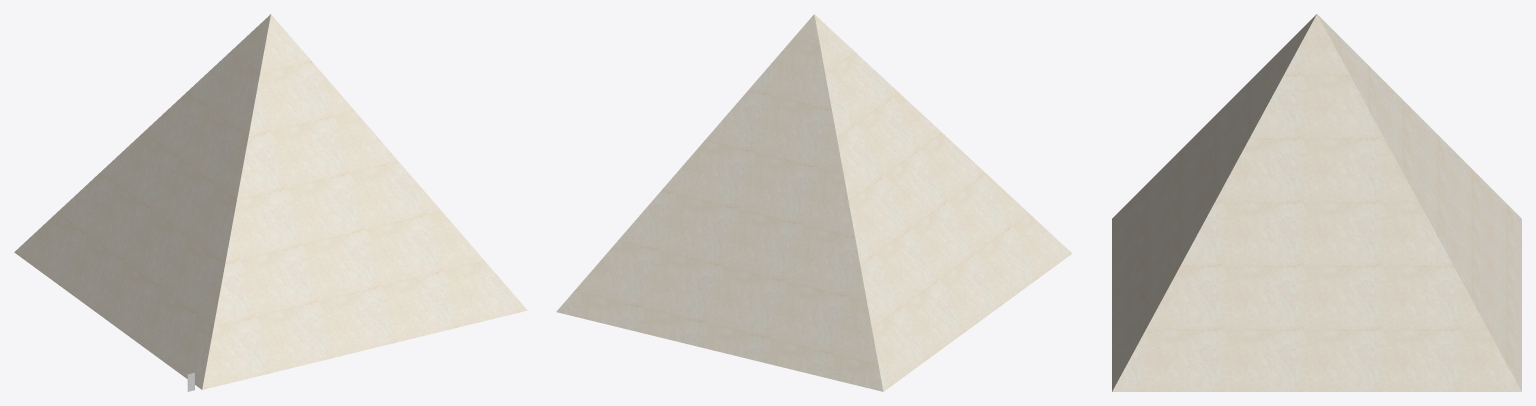
Rendered from LepsiusXXIV.glb.
3 views of the same model, side by side, from view 1: azimuth 30°, elevation 25°; view 2: azimuth 150°, elevation 25°; view 3: azimuth 270°, elevation 25° (orthographic). The views are drawn at different scales.
Parts seen in each view (by area): view 1: Mesh1 Model; view 2: Mesh1 Model; view 3: Mesh1 Model.
Boxes of the visible parts, <box> form: Mesh1 Model: <box>14,14,527,389</box>; Mesh1 Model: <box>556,14,1072,391</box>; Mesh1 Model: <box>1112,14,1521,391</box>.
Bounding box in the file's own units: 32.33 × 24.4 × 31.1.
2 materials, 2 textured.
